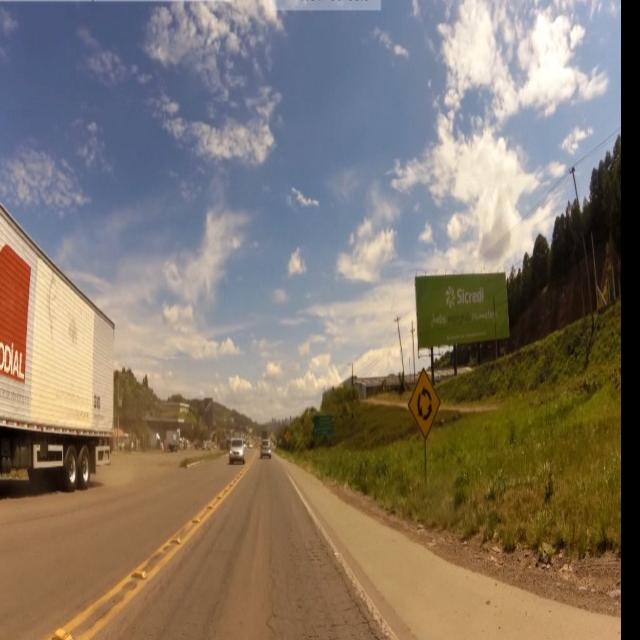A-12: (408, 370, 441, 446)
